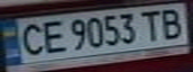0: (84, 15, 106, 48)
3: (118, 10, 142, 45)
5: (103, 11, 124, 47)
9: (66, 16, 87, 51)
B: (154, 6, 190, 40)
C: (15, 20, 48, 56)
E: (36, 18, 69, 55)
T: (136, 7, 166, 42)
